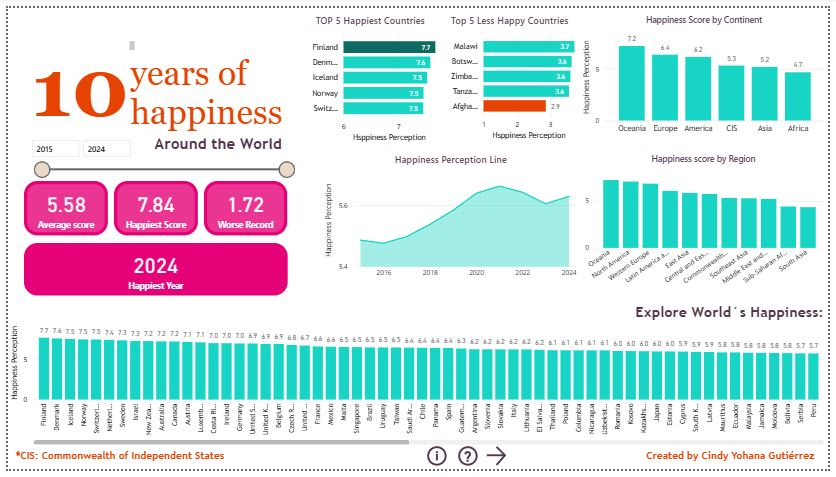

The dashboard page shown, as its layout file describes it:
{"tool":"powerbi","page":{"name":"Narrative","canvas":[1280,720],"ordinal":0},"visuals":[{"type":"clusteredColumnChart","title":"Explore World´s Happiness:","fields":{"Category":["Fact_Happiness.Country"],"Y":["Avg(Fact_Happiness.Happiness score)"]},"box":[0,462.6,1279.8,225.3],"z":0},{"type":"barChart","title":"Top 5 Less Happy Countries","fields":{"Category":["Fact_Happiness.Country"],"Y":["Avg(Fact_Happiness.Happiness score)"]},"box":[675,9.7,218.1,201.4],"z":1000},{"type":"clusteredColumnChart","title":"Happiness Score by Continent","fields":{"Category":["Dim_Country.Continent"],"Y":["DAX.Avg by Continent"]},"box":[893.1,9.7,387.5,194.4],"z":2000},{"type":"textbox","box":[11.5,47.1,191.5,145.4],"z":3000,"group":"g2"},{"type":"textbox","box":[50.4,192.5,383,41.8],"z":3000,"group":"g3"},{"type":"card","fields":{"Values":["DAX.Happiest Year"]},"box":[24.5,367.2,411.8,82.1],"z":3000},{"type":"textbox","box":[187.2,65.8,288,138.2],"z":4000,"group":"g2"},{"type":"card","fields":{"Values":["Min(Fact_Happiness.Happiness score)"]},"box":[306.7,270.7,129.6,85],"z":4000},{"type":"card","fields":{"Values":["Max(Fact_Happiness.Happiness score)"]},"box":[165.6,270.7,131,85],"z":5000},{"type":"card","fields":{"Values":["Avg(Fact_Happiness.Happiness score)"]},"box":[24.5,270.7,131,85],"z":6000},{"type":"barChart","title":"TOP 5 Happiest Countries","fields":{"Category":["Fact_Happiness.Country"],"Y":["Avg(Fact_Happiness.Happiness score)"]},"box":[456.9,9.7,219.4,205.6],"z":7000},{"type":"slicer","fields":{"Values":["Dim_Year.Year"]},"box":[30.2,201.8,421.9,64.8],"z":7000,"group":"g1"},{"type":"areaChart","title":"Happiness Perception Line","fields":{"Y":["Avg(Fact_Happiness.Happiness score)"],"Category":["Dim_Year.Year"]},"box":[490.3,226.4,402.8,205.6],"z":8000},{"type":"columnChart","title":"Happiness score by Region","fields":{"Category":["Dim_Country.Regional indicator"],"Y":["Avg(Fact_Happiness.Happiness score)"]},"box":[893.1,226.4,386.1,215.3],"z":9000},{"type":"group","id":"g1","title":"Group 3","box":[11.5,47.1,463.7,218.9],"z":10000},{"type":"textbox","box":[977.8,684,301,36],"z":11000},{"type":"group","id":"g2","title":"Group 1","box":[11.5,47.1,463.7,157],"z":12000,"group":"g3"},{"type":"textbox","box":[2.9,684,344.2,36],"z":12000},{"type":"group","id":"g3","title":"Group 2","box":[11.5,47.1,463.7,187.2],"z":12001,"group":"g1"},{"type":"actionButton","box":[698.4,679.7,50.4,40.3],"z":13000},{"type":"actionButton","box":[649.4,679.7,49,40.3],"z":14000},{"type":"actionButton","box":[741.6,679.7,51.8,40.3],"z":15000}]}

Visuals, with their boxes in screenshot pixels (x1, y1, x2, y2), scaled from the page's 1280x720 canvas onto the 836x477 screenshot:
"Explore World´s Happiness:" clusteredColumnChart: box=[0, 306, 835, 456]
"Top 5 Less Happy Countries" barChart: box=[441, 6, 583, 140]
"Happiness Score by Continent" clusteredColumnChart: box=[583, 6, 835, 135]
textbox: box=[8, 31, 133, 128]
textbox: box=[33, 128, 283, 155]
card - DAX.Happiest Year: box=[16, 243, 285, 298]
textbox: box=[122, 44, 310, 135]
card - Min(Fact_Happiness.Happiness score): box=[200, 179, 285, 236]
card - Max(Fact_Happiness.Happiness score): box=[108, 179, 194, 236]
card - Avg(Fact_Happiness.Happiness score): box=[16, 179, 102, 236]
"TOP 5 Happiest Countries" barChart: box=[298, 6, 442, 143]
slicer - Dim_Year.Year: box=[20, 134, 295, 177]
"Happiness Perception Line" areaChart: box=[320, 150, 583, 286]
"Happiness score by Region" columnChart: box=[583, 150, 835, 293]
"Group 3" group: box=[8, 31, 310, 176]
textbox: box=[639, 453, 835, 476]
"Group 1" group: box=[8, 31, 310, 135]
textbox: box=[2, 453, 227, 476]
"Group 2" group: box=[8, 31, 310, 155]
actionButton: box=[456, 450, 489, 476]
actionButton: box=[424, 450, 456, 476]
actionButton: box=[484, 450, 518, 476]
